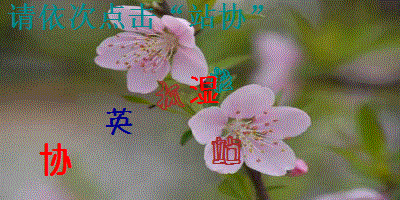result: (186, 1, 247, 32)
text: (37, 141, 73, 179), (209, 135, 243, 167), (153, 78, 186, 110), (188, 74, 221, 106), (104, 105, 135, 138), (206, 65, 235, 94)
